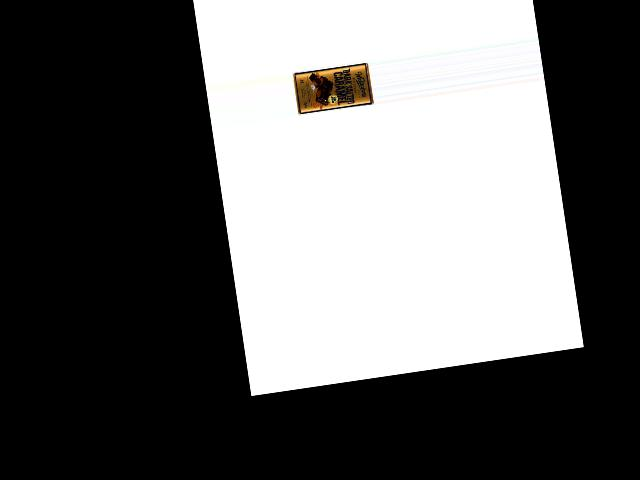chocolate: (290, 61, 373, 118)
